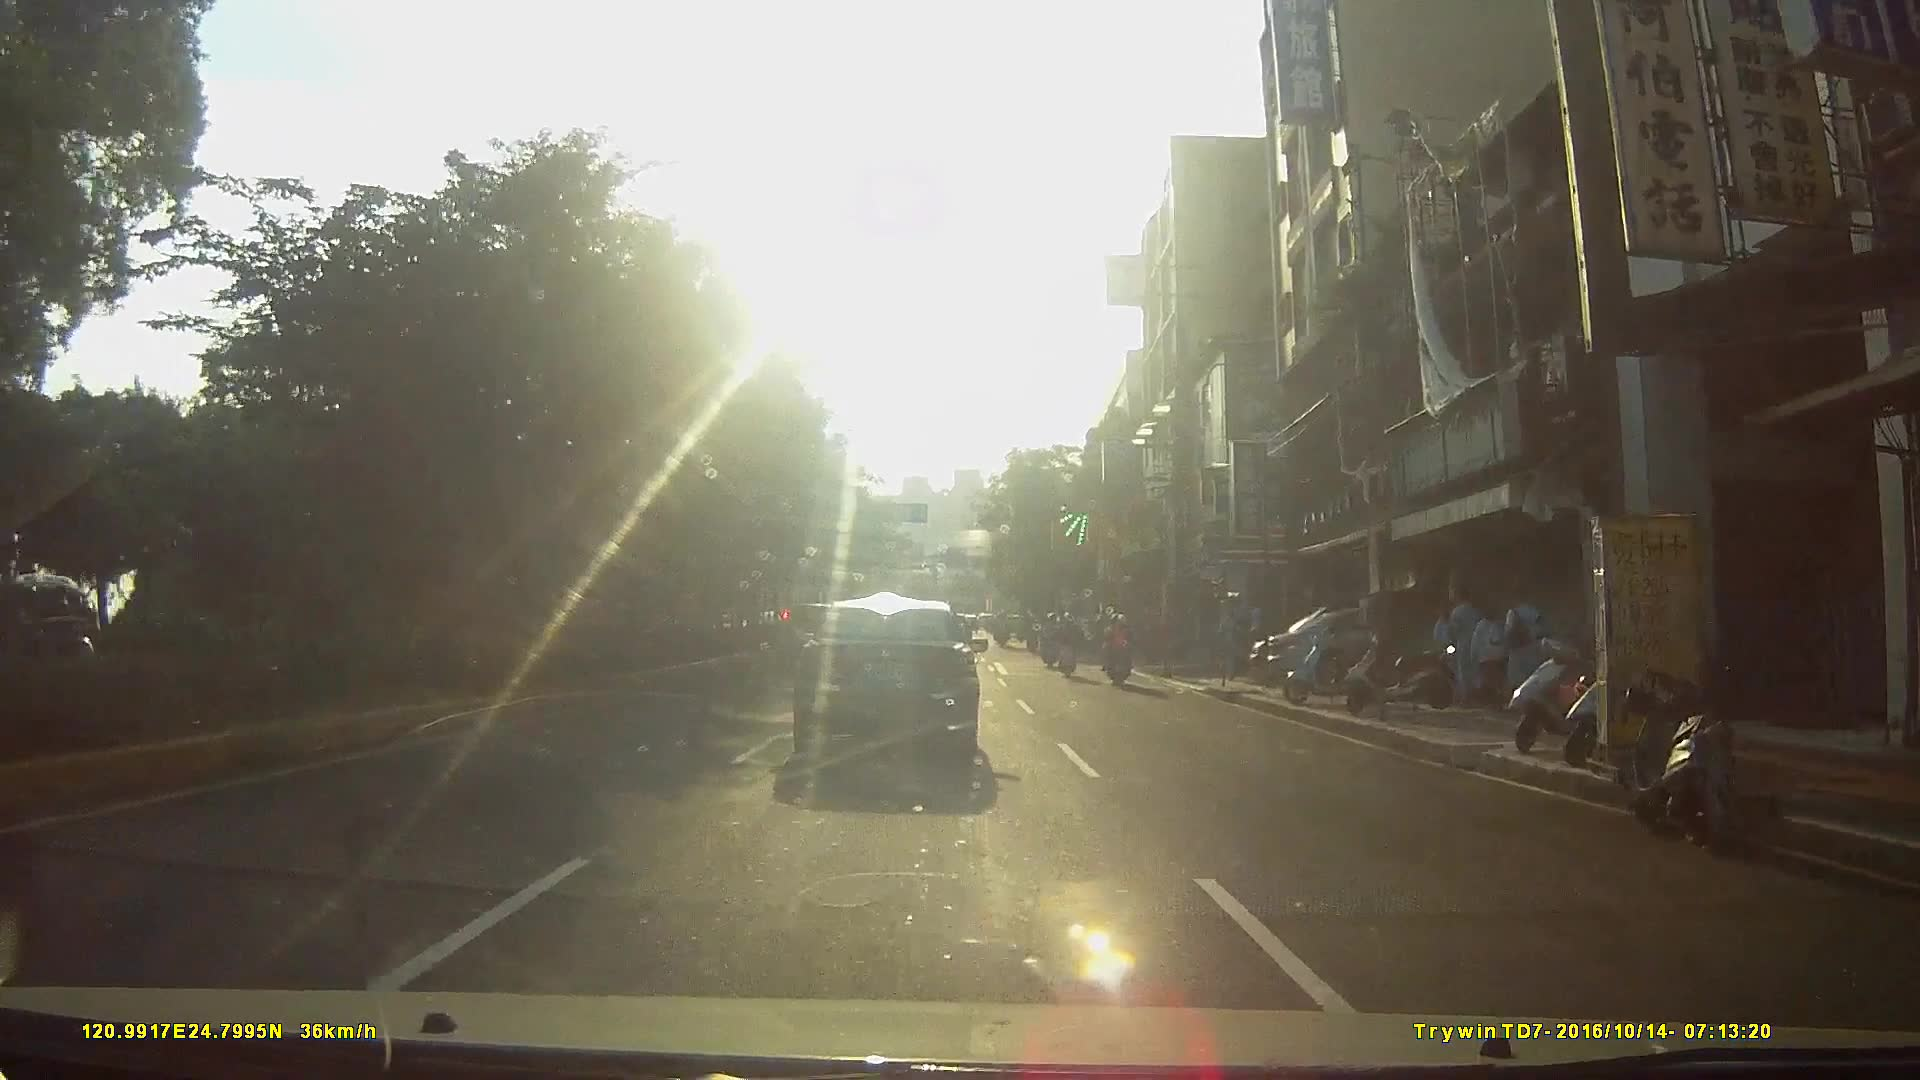pedestrian: (1503, 580, 1548, 726), (1463, 597, 1513, 716), (1450, 579, 1487, 712)
rider: (1104, 613, 1138, 692), (1056, 612, 1084, 679), (1041, 611, 1062, 670)
vehicle: (790, 598, 1004, 787), (1, 576, 115, 706)
